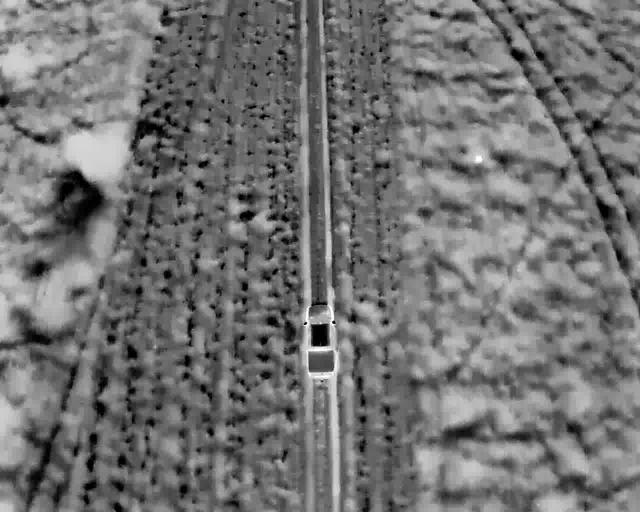car: (303, 304, 337, 378)
